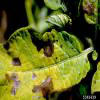Potato leaf early blight: (1, 27, 90, 97), (82, 0, 99, 24), (91, 60, 99, 91)
